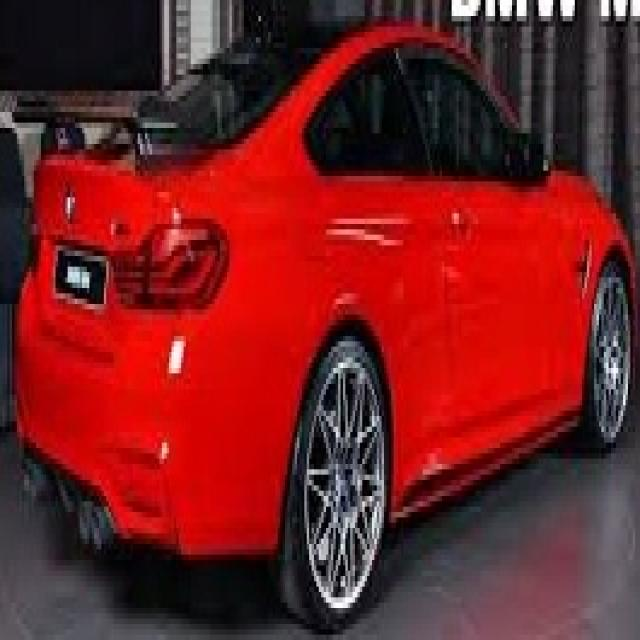red: (17, 27, 640, 580)
